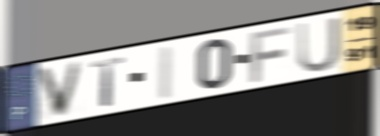0: (195, 37, 234, 91)
F: (249, 24, 294, 84)
I: (156, 43, 176, 102)
T: (89, 54, 127, 109)
U: (296, 14, 343, 75)
V: (35, 59, 86, 120)
